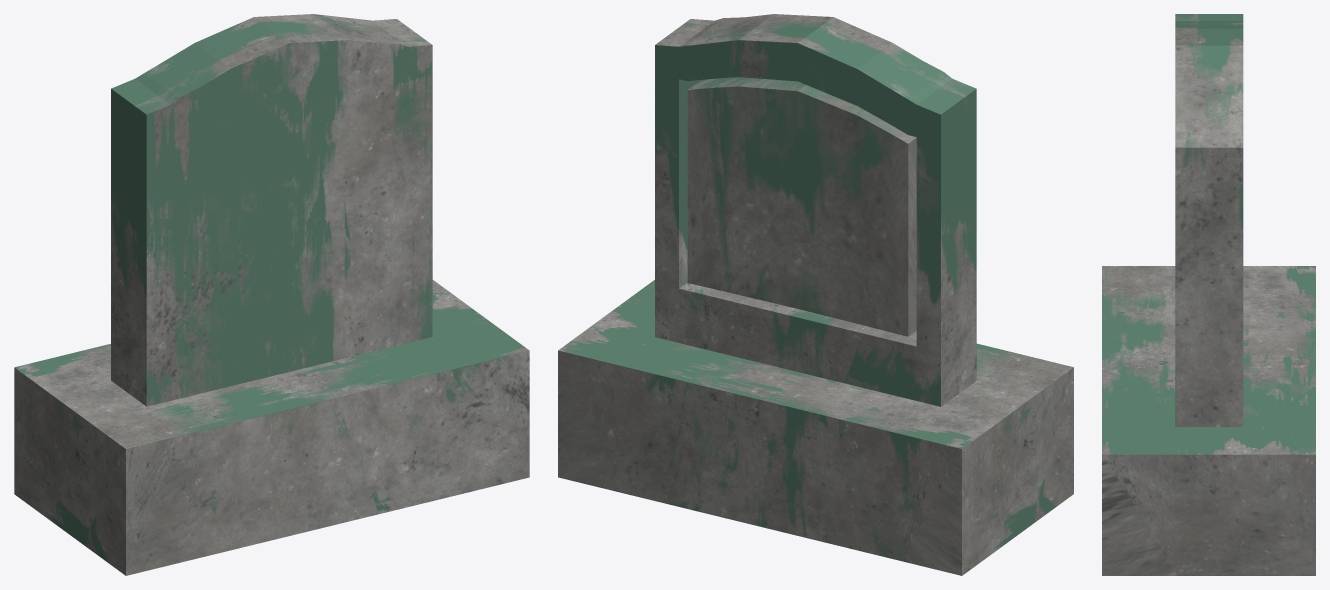
File: IndentGravestone_Ready.fbx
The picture shows the model from 3 angles, left to right: view 1: azimuth 30°, elevation 25°; view 2: azimuth 150°, elevation 25°; view 3: azimuth 270°, elevation 25°; orthographic projection. The views are drawn at different scales.
Visible parts, largest first — view 1: Indent Gravestone; view 2: Indent Gravestone; view 3: Indent Gravestone.
Part boxes in pixels (x1,y1,x2,y2): Indent Gravestone: (14, 14, 529, 575); Indent Gravestone: (558, 14, 1073, 575); Indent Gravestone: (1102, 14, 1315, 575).
Size of the model in its own units: 417 by 450 by 200.
